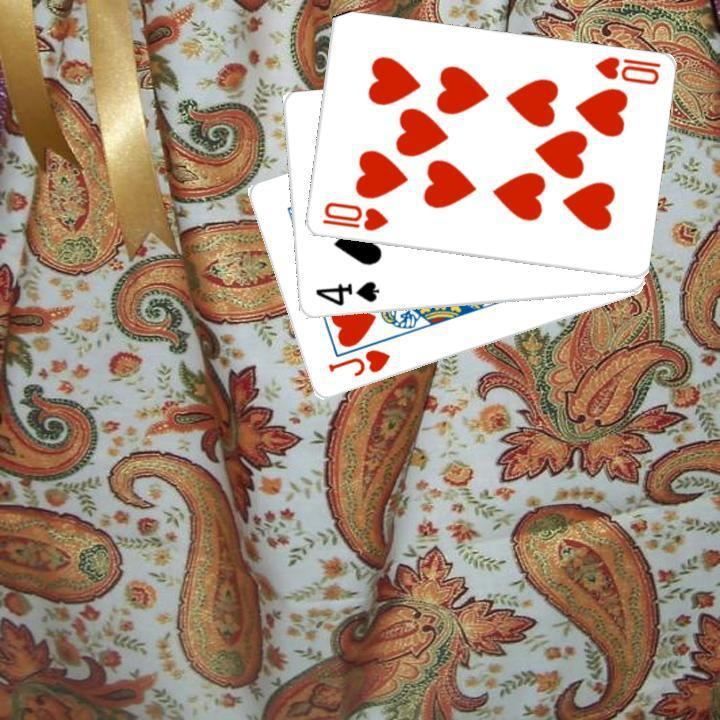10: (318, 198, 390, 234), (590, 52, 662, 88)
4: (310, 277, 381, 309)
J: (323, 345, 392, 379)
